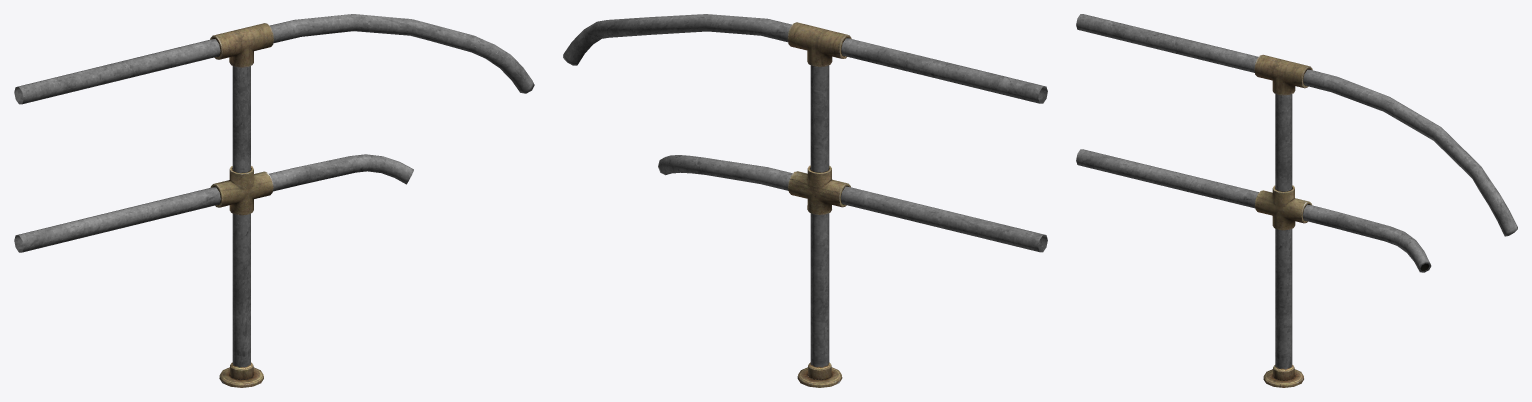
File: railing_pplant_end_mangled_01.dae
The picture shows the model from 3 angles, left to right: view 1: azimuth 30°, elevation 25°; view 2: azimuth 150°, elevation 25°; view 3: azimuth 330°, elevation 25°; orthographic projection. The views are drawn at different scales.
Parts seen in each view (by area): view 1: railing_pplant_mangled_end_02; view 2: railing_pplant_mangled_end_02; view 3: railing_pplant_mangled_end_02.
Part boxes in pixels (<box>): railing_pplant_mangled_end_02: <box>14,14,534,387</box>; railing_pplant_mangled_end_02: <box>563,14,1047,387</box>; railing_pplant_mangled_end_02: <box>1076,14,1517,387</box>.
Bounding box in the file's own units: 2.23 × 1.49 × 0.258.
